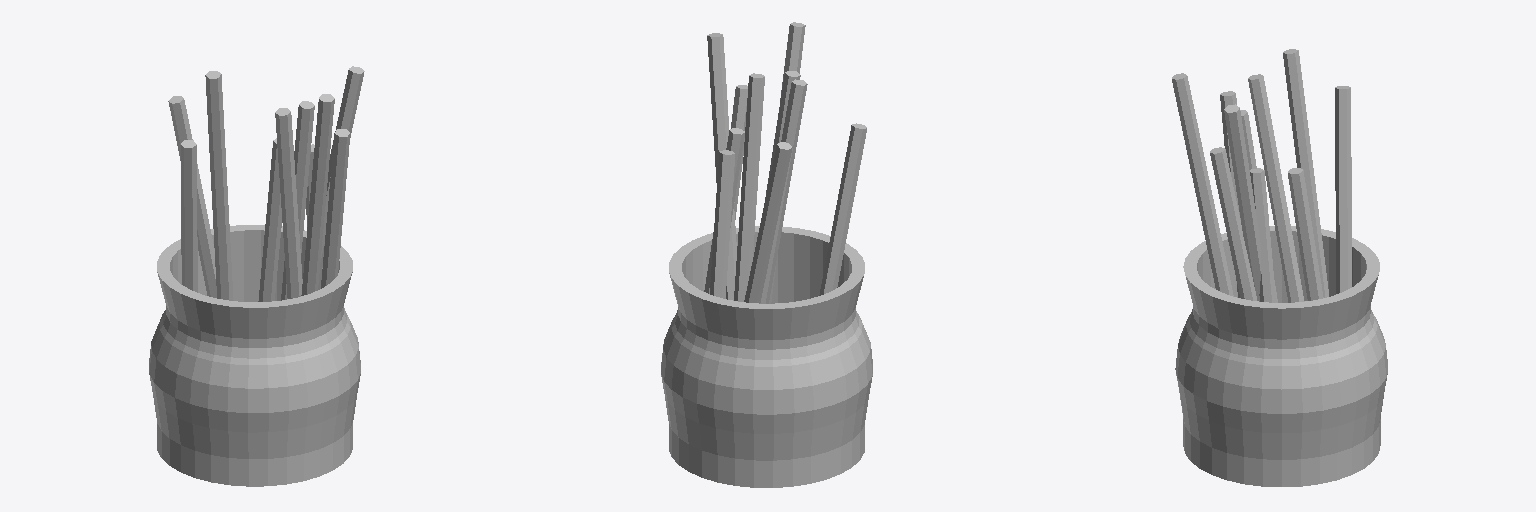
Rendered from pencils.obj.
The picture shows the model from 3 angles: view 1: azimuth 30°, elevation 25°; view 2: azimuth 150°, elevation 25°; view 3: azimuth 270°, elevation 25°; orthographic projection.
Parts seen in each view (by area): view 1: pencils_Cylinder; view 2: pencils_Cylinder; view 3: pencils_Cylinder.
Boxes of the visible parts, box(x1,y1,x2,y2) form: pencils_Cylinder: box(149, 66, 364, 486); pencils_Cylinder: box(661, 22, 872, 487); pencils_Cylinder: box(1172, 49, 1387, 486).
Bounding box in the file's own units: 0.1111 × 0.2195 × 0.1131.